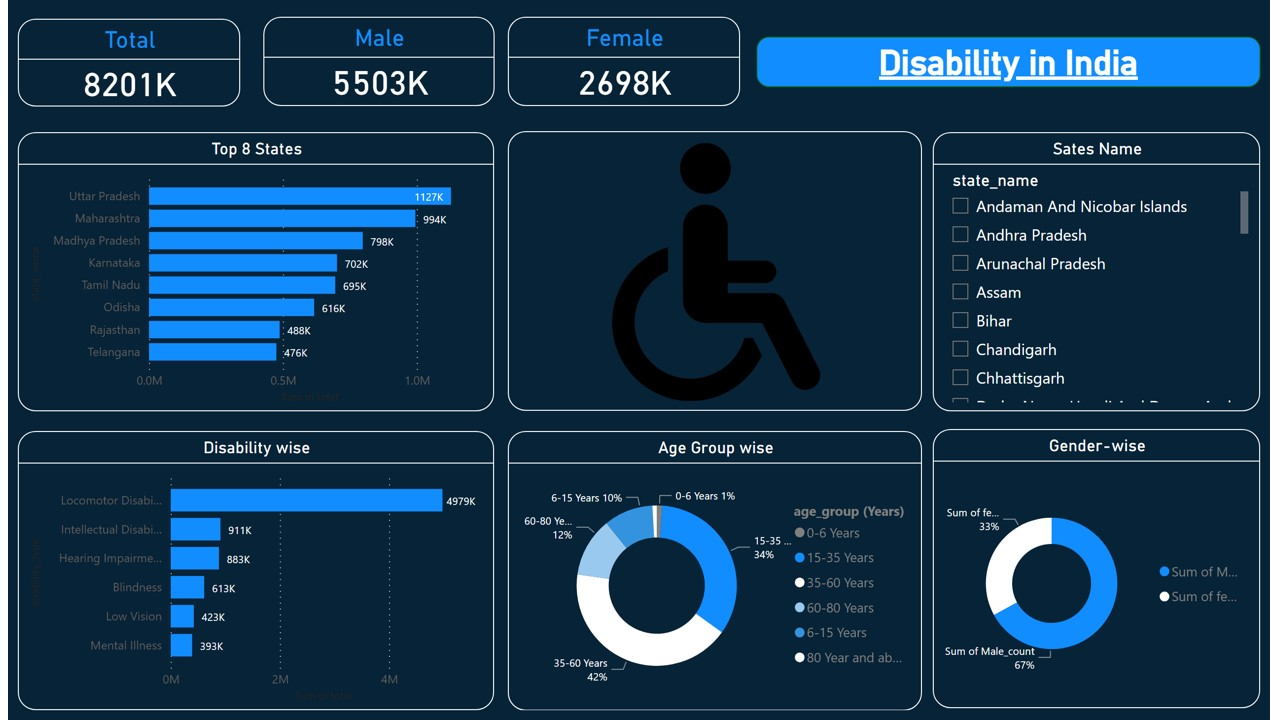

Layout of this report page (visuals, bound fields, positions):
{"tool":"powerbi","page":{"name":"Page 1","canvas":[1280,720],"ordinal":0},"visuals":[{"type":"clusteredBarChart","title":"Disability wise","fields":{"Category":["UDIDDATA (2).disability_type"],"Y":["Sum(UDIDDATA (2).total)"]},"box":[10.1,436.9,482.9,283.1],"z":0},{"type":"donutChart","title":"Age Group wise","fields":{"Y":["Sum(UDIDDATA (2).total)"],"Series":["UDIDDATA (2).age_group (Years)"]},"box":[506.7,436.7,420,283.3],"z":1000},{"type":"card","title":"Total","fields":{"Values":["Sum(UDIDDATA (2).total)"]},"box":[10.1,18.7,225.6,89.1],"z":2000},{"type":"card","title":"Male","fields":{"Values":["Sum(UDIDDATA (2).Male_count)"]},"box":[258.7,17.2,234.3,90.5],"z":3000},{"type":"card","title":"Female","fields":{"Values":["Sum(UDIDDATA (2).female_count)"]},"box":[507.3,17.2,235.7,90.5],"z":4000},{"type":"barChart","title":"Top 8 States","fields":{"Y":["Sum(UDIDDATA (2).total)"],"Category":["UDIDDATA (2).state_name"]},"box":[10.1,133.7,482.9,283.1],"z":5000},{"type":"image","box":[506.7,133.3,420,283.3],"z":6000},{"type":"slicer","title":"Sates Name","fields":{"Values":["UDIDDATA (2).state_name"]},"box":[938.4,133.7,332,283.1],"z":7000},{"type":"shape","box":[758.8,37.4,511.6,51.7],"z":8000},{"type":"donutChart","title":"Gender-wise","fields":{"Y":["Sum(UDIDDATA (2).Male_count)","Sum(UDIDDATA (2).female_count)"]},"box":[938.4,435.4,332,283.1],"z":9000}]}

Visuals, with their boxes in screenshot pixels (x1, y1, x2, y2), scaled from the page's 1280x720 canvas onto the 1280x720 screenshot:
"Disability wise" clusteredBarChart: BBox(10, 437, 493, 719)
"Age Group wise" donutChart: BBox(507, 437, 927, 719)
"Total" card: BBox(10, 19, 236, 108)
"Male" card: BBox(259, 17, 493, 108)
"Female" card: BBox(507, 17, 743, 108)
"Top 8 States" barChart: BBox(10, 134, 493, 417)
image: BBox(507, 133, 927, 417)
"Sates Name" slicer: BBox(938, 134, 1270, 417)
shape: BBox(759, 37, 1270, 89)
"Gender-wise" donutChart: BBox(938, 435, 1270, 718)
